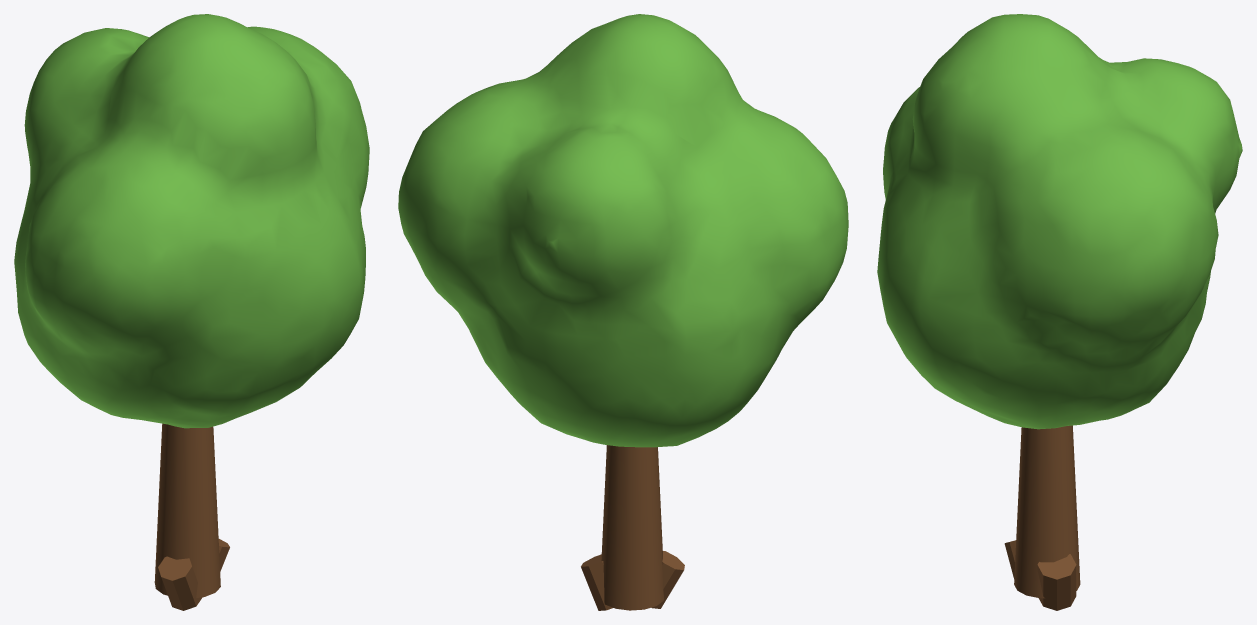
File: tree.glb
3 views of the same model, side by side, from view 1: azimuth 30°, elevation 25°; view 2: azimuth 150°, elevation 25°; view 3: azimuth 270°, elevation 25° (orthographic).
Visible parts, largest first — view 1: Canopy, Trunk; view 2: Canopy, Trunk; view 3: Canopy, Trunk.
Boxes of the visible parts, x1,y1,x2,y2 form: Canopy: (14, 14, 369, 428); Trunk: (154, 423, 229, 610); Canopy: (398, 14, 848, 447); Trunk: (581, 445, 684, 610); Canopy: (877, 14, 1242, 429); Trunk: (1004, 425, 1080, 610).
Bounding box in the file's own units: 2.16 × 3.28 × 1.87.
